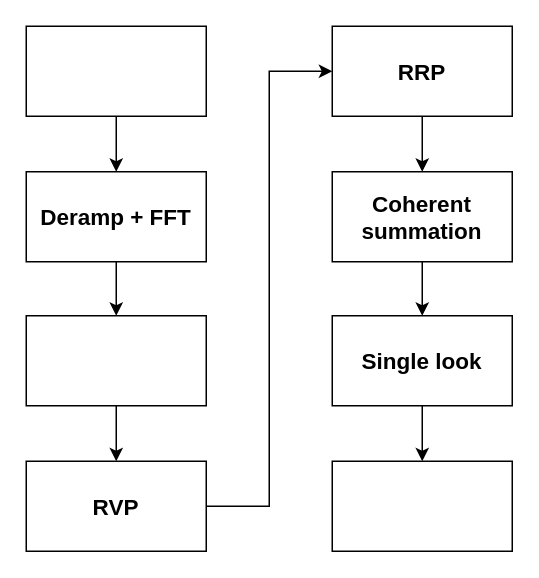
The diagram is 539 pixels wide and 578 high, and some of its shapes have lost their labels. The shapes that lost their labels are listed below. From the top down, each one's centre as x and y in pixels, then its label:
At pixel 115 70: "Signals".
At pixel 115 360: "RCMC".
At pixel 421 505: "Multi-looking".
